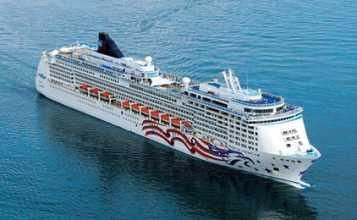youlun: (36, 36, 320, 182)
